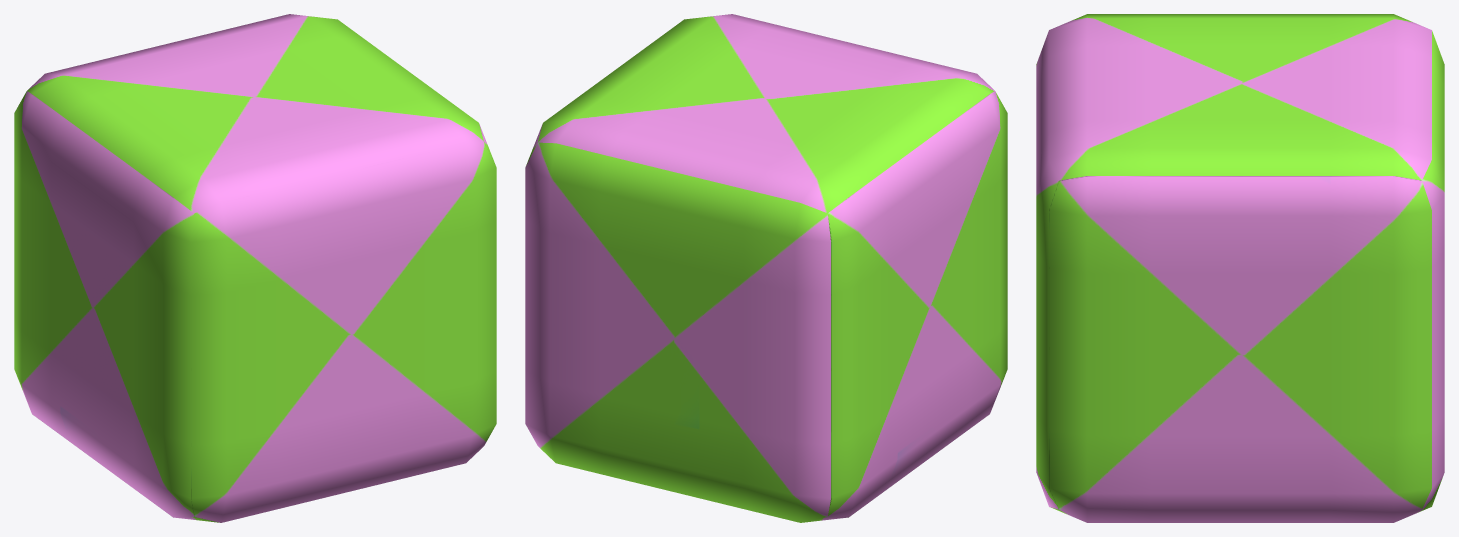
Rendered from block_sankaku3.fbx.
The picture shows the model from 3 angles, left to right: view 1: azimuth 30°, elevation 25°; view 2: azimuth 150°, elevation 25°; view 3: azimuth 270°, elevation 25°; orthographic projection. The views are drawn at different scales.
Visible parts, largest first — view 1: pCube1; view 2: pCube1; view 3: pCube1.
Boxes of the visible parts, left/top/right/bottom form: pCube1: left=14, top=14, right=496, bottom=522; pCube1: left=525, top=14, right=1007, bottom=522; pCube1: left=1036, top=14, right=1444, bottom=522.
Size of the model in its own units: 2.06 by 2.06 by 2.06.
Materials: 1 (1 with a texture image).
